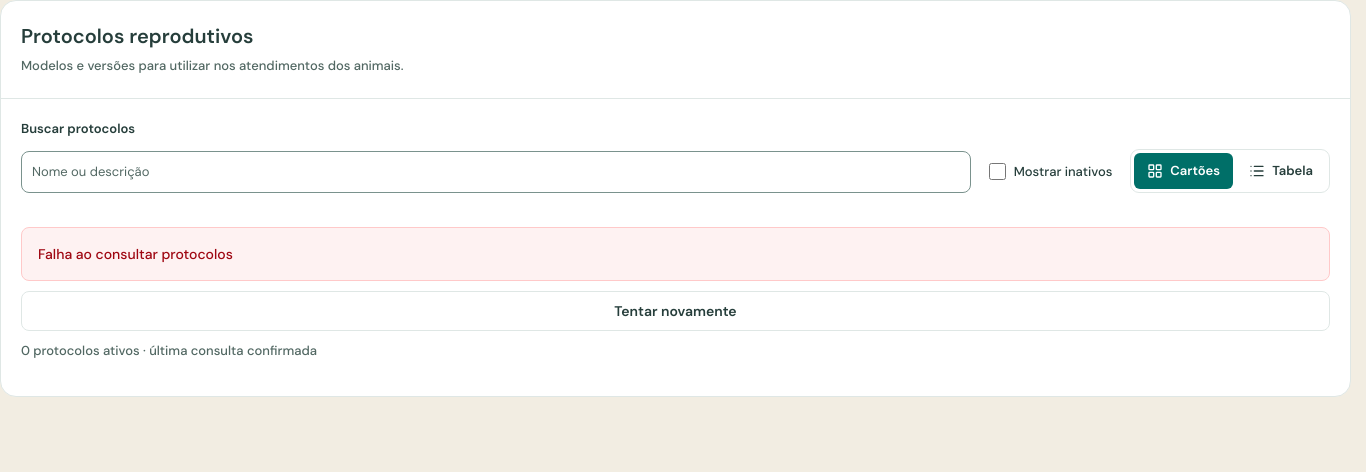
distingue erro de catálogo vazio e retry recupera os protocolos
This screenshot has width=1366, height=472.
Expected: the message "Falha ao consultar protocolos" is shown, [21,226,1330,280]
Click the button "Tentar novamente" at (676, 310), box [21,290,1330,330]
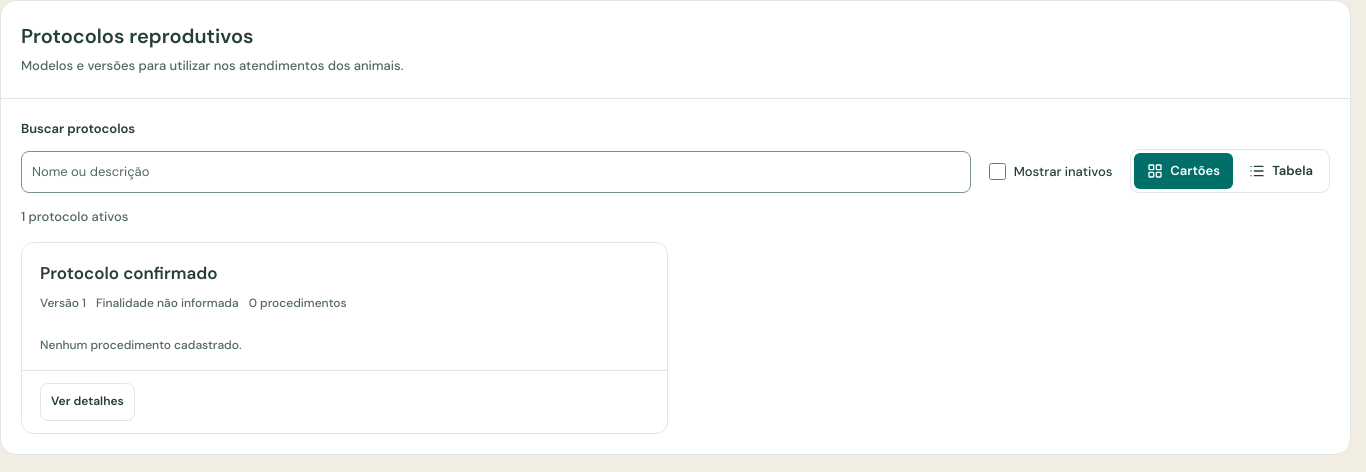
Expected: the heading "Protocolo confirmado" is shown, [40,262,218,284]
Expected: the message "Falha ao consultar protocolos" is gone
